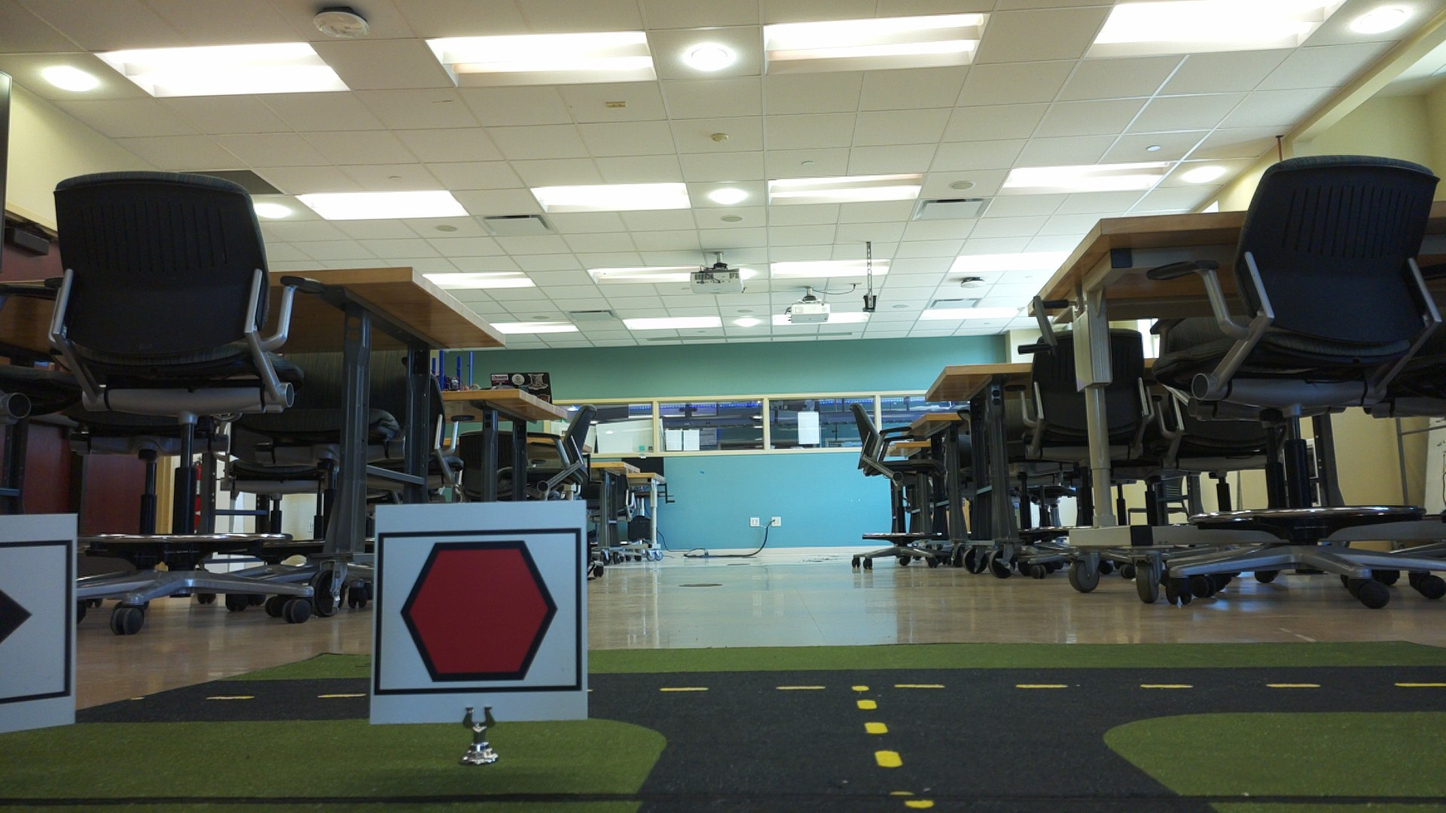stop: (383, 534, 572, 692)
yellowline: (856, 681, 903, 769)
